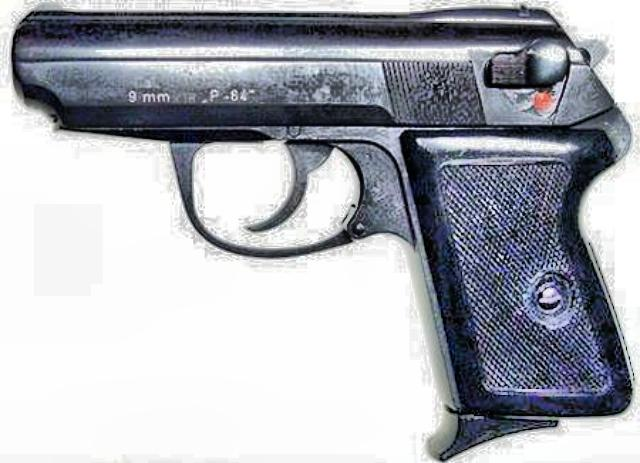pistol: (11, 2, 636, 460)
